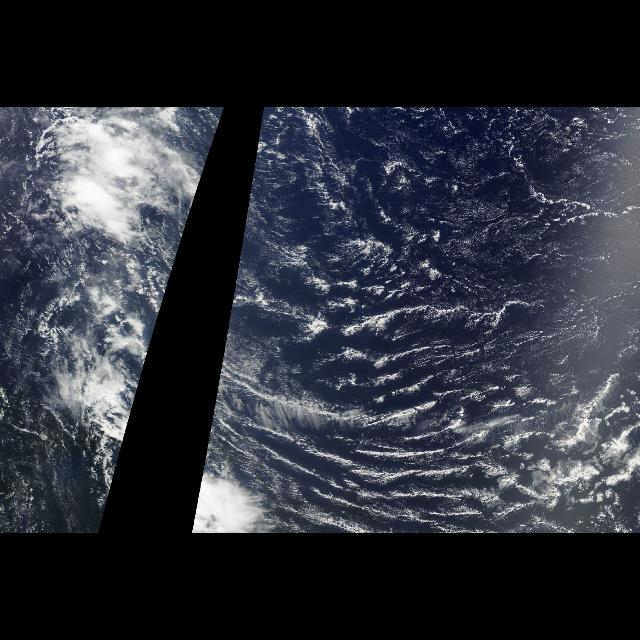Fish: (280, 350, 634, 530)
Sugar: (194, 110, 638, 530), (194, 111, 226, 197)
